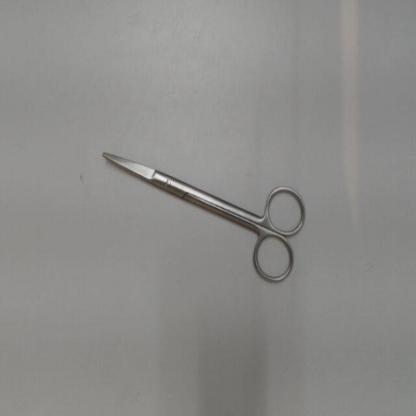Curved Mayo Scissors: (97, 146, 313, 293)
